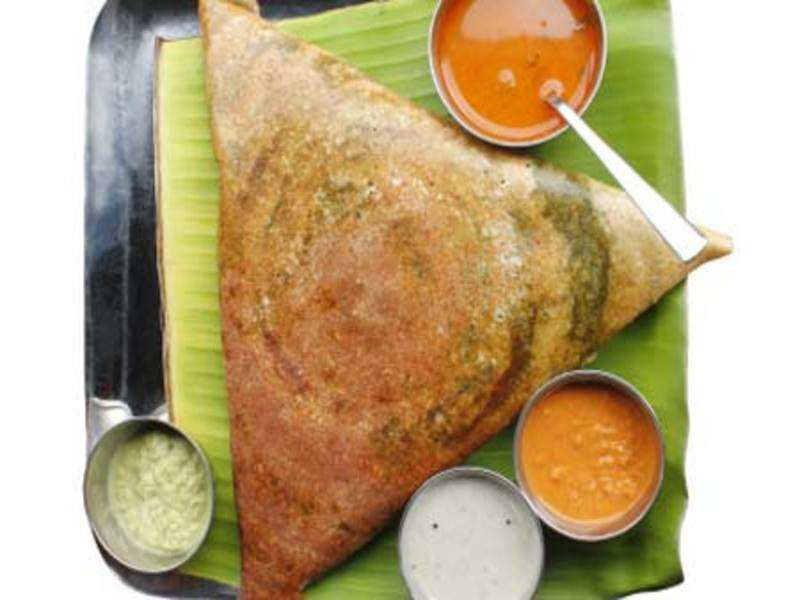dosa: (183, 1, 781, 600)
